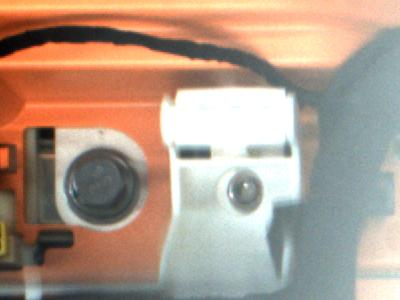nut_b: (59, 144, 146, 230)
